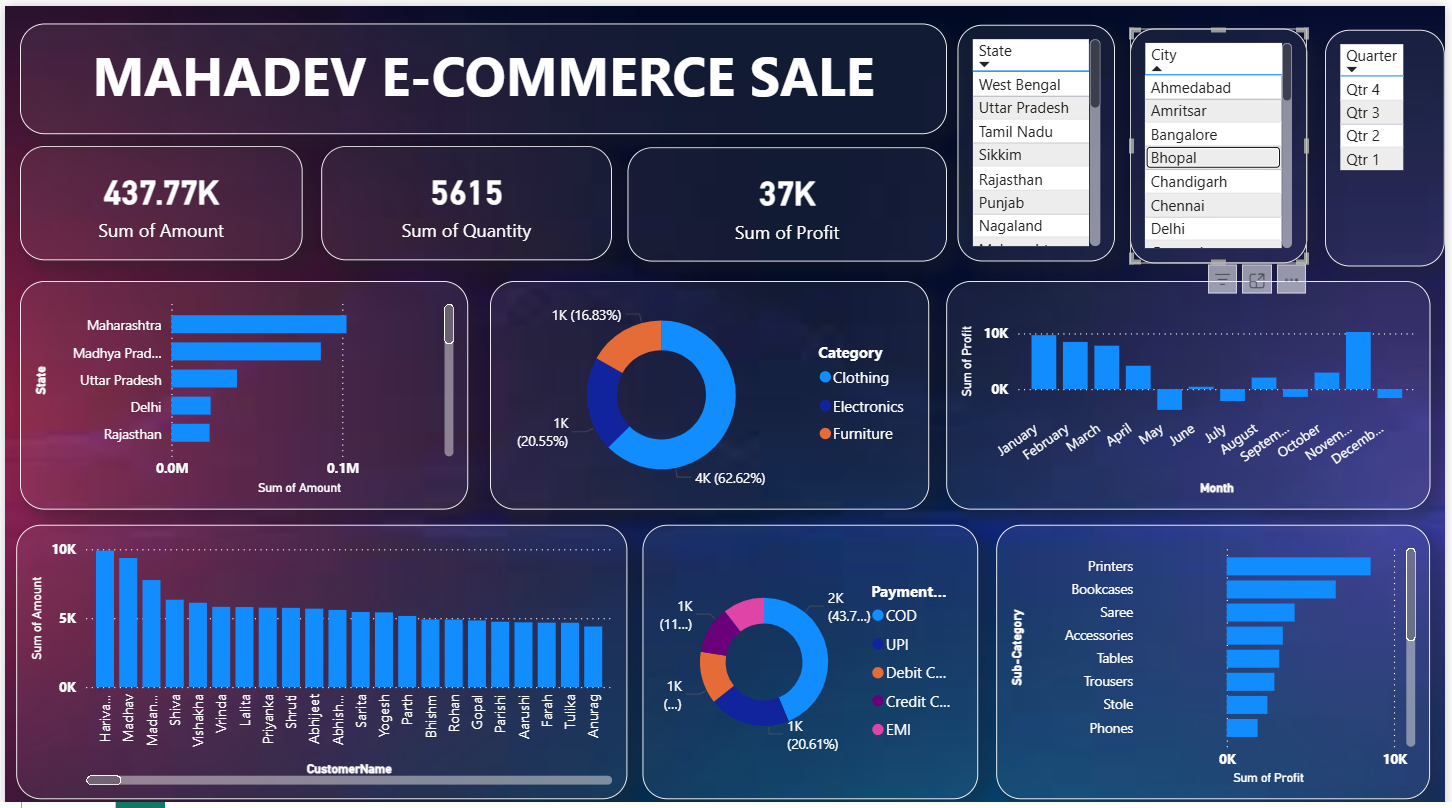

Layout of this report page (visuals, bound fields, positions):
{"tool":"powerbi","page":{"name":"Page 1","canvas":[1280,720],"ordinal":0},"visuals":[{"type":"clusteredBarChart","fields":{"Category":["Orders.State"],"Y":["Sum(Details.Amount)"]},"box":[12.9,244.3,398.6,202.9],"z":0},{"type":"donutChart","fields":{"Category":["Details.Category"],"Y":["Sum(Details.Quantity)"]},"box":[431.4,244.3,390,202.9],"z":1000},{"type":"clusteredColumnChart","fields":{"Category":["Orders.Order Date.Variation.Date Hierarchy.Month"],"Y":["Sum(Details.Profit)"]},"box":[837.1,244.3,430,202.9],"z":2000},{"type":"clusteredColumnChart","fields":{"Y":["Sum(Details.Amount)"],"Category":["Orders.CustomerName"]},"box":[10,461.4,542.9,244.3],"z":3000},{"type":"donutChart","fields":{"Category":["Details.PaymentMode"],"Y":["Sum(Details.Quantity)"]},"box":[567.1,461.4,298.6,244.3],"z":4000},{"type":"clusteredBarChart","fields":{"Category":["Details.Sub-Category"],"Y":["Sum(Details.Profit)"]},"box":[881.4,461.4,385.7,244.3],"z":5000},{"type":"card","fields":{"Values":["Sum(Details.Amount)"]},"box":[12.9,124.3,251.4,101.4],"z":6000},{"type":"card","fields":{"Values":["Sum(Details.Quantity)"]},"box":[281.4,124.3,258.6,101.4],"z":7000},{"type":"card","fields":{"Values":["Sum(Details.Profit)"]},"box":[552.9,125.7,284.3,101.4],"z":8000},{"type":"textbox","box":[12.9,15.7,824.3,98.6],"z":9000},{"type":"tableEx","fields":{"Values":["Orders.State"]},"box":[846.2,16.2,140,210],"z":9001},{"type":"tableEx","fields":{"Values":["Orders.Order Date.Variation.Date Hierarchy.Quarter"]},"box":[1173.8,21.2,106.2,210],"z":9002},{"type":"tableEx","fields":{"Values":["Orders.City"]},"box":[1000,20,157.5,208.8],"z":9003}]}

Visuals, with their boxes in screenshot pixels (x1, y1, x2, y2), scaled from the page's 1280x720 canvas onto the 1452x808 screenshot:
clusteredBarChart - Orders.State x Sum(Details.Amount): {"x1": 15, "y1": 274, "x2": 467, "y2": 502}
donutChart - Details.Category x Sum(Details.Quantity): {"x1": 489, "y1": 274, "x2": 932, "y2": 502}
clusteredColumnChart - Orders.Order Date.Variation.Date Hierarchy.Month x Sum(Details.Profit): {"x1": 950, "y1": 274, "x2": 1437, "y2": 502}
clusteredColumnChart - Sum(Details.Amount) x Orders.CustomerName: {"x1": 11, "y1": 518, "x2": 627, "y2": 792}
donutChart - Details.PaymentMode x Sum(Details.Quantity): {"x1": 643, "y1": 518, "x2": 982, "y2": 792}
clusteredBarChart - Details.Sub-Category x Sum(Details.Profit): {"x1": 1000, "y1": 518, "x2": 1437, "y2": 792}
card - Sum(Details.Amount): {"x1": 15, "y1": 139, "x2": 300, "y2": 253}
card - Sum(Details.Quantity): {"x1": 319, "y1": 139, "x2": 613, "y2": 253}
card - Sum(Details.Profit): {"x1": 627, "y1": 141, "x2": 950, "y2": 255}
textbox: {"x1": 15, "y1": 18, "x2": 950, "y2": 128}
tableEx - Orders.State: {"x1": 960, "y1": 18, "x2": 1119, "y2": 254}
tableEx - Orders.Order Date.Variation.Date Hierarchy.Quarter: {"x1": 1332, "y1": 24, "x2": 1451, "y2": 259}
tableEx - Orders.City: {"x1": 1134, "y1": 22, "x2": 1313, "y2": 257}
